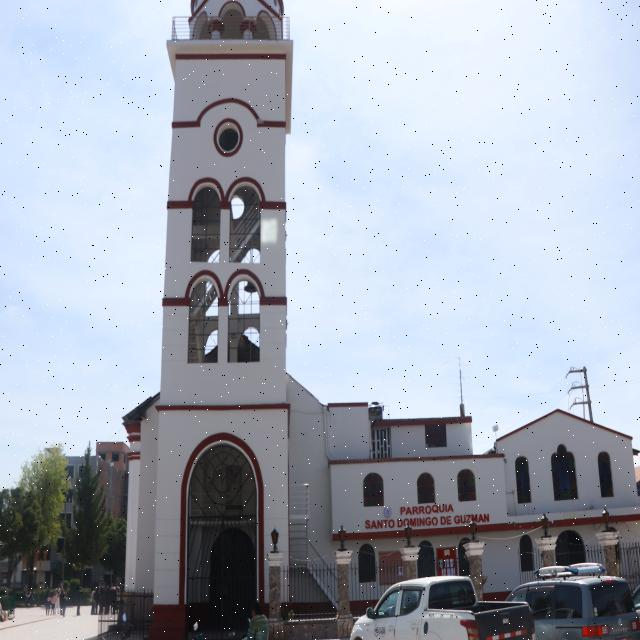CAMPANARIO: (144, 45, 298, 414)
CUPULA: (156, 0, 300, 54)
TORRES: (126, 0, 313, 636)
colonial-architecture-: (126, 0, 640, 634)
